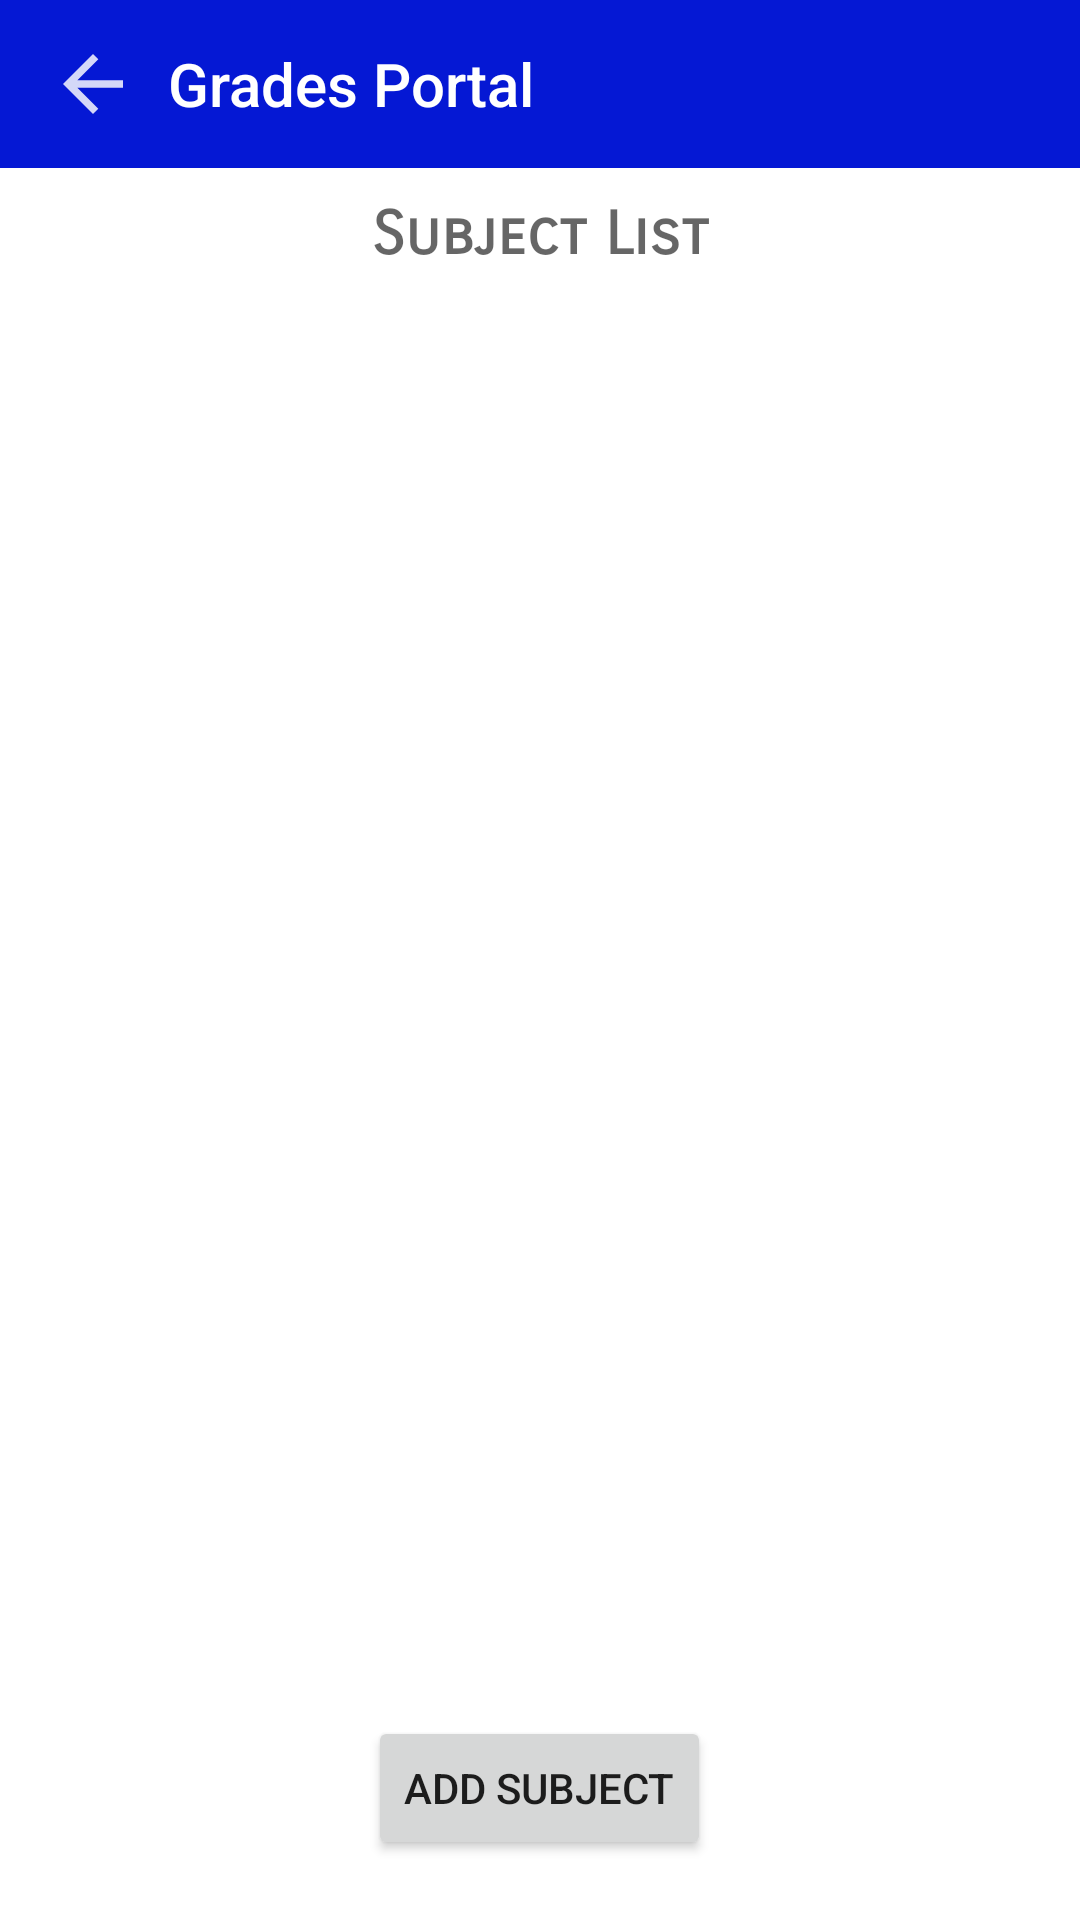

Where to tap for icons on this 1080 x 1920 app screen, as [x,y]:
Back: [93,84]
